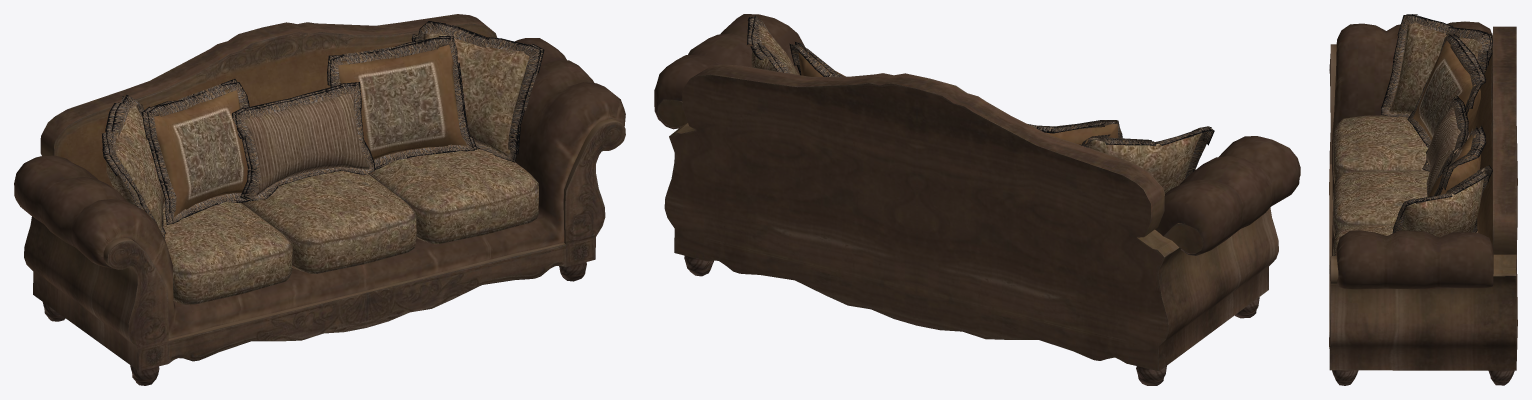
File: sofa_03_lod1.glb
The picture shows the model from 3 angles, left to right: view 1: azimuth 30°, elevation 25°; view 2: azimuth 150°, elevation 25°; view 3: azimuth 270°, elevation 25°; orthographic projection. The views are drawn at different scales.
Visible parts, largest first — view 1: sofa_03; view 2: sofa_03; view 3: sofa_03.
Boxes of the visible parts, x1,y1,x2,y2 form: sofa_03: [14, 14, 625, 385]; sofa_03: [654, 14, 1300, 385]; sofa_03: [1329, 14, 1517, 385].
Bounding box in the file's own units: 2.73 × 1.12 × 0.9244.
2 materials, 2 textured.
